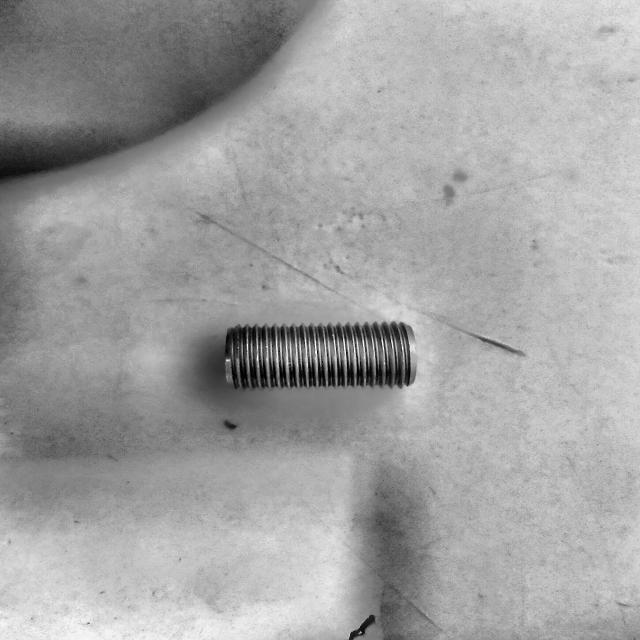Normal: (224, 321, 416, 392)
